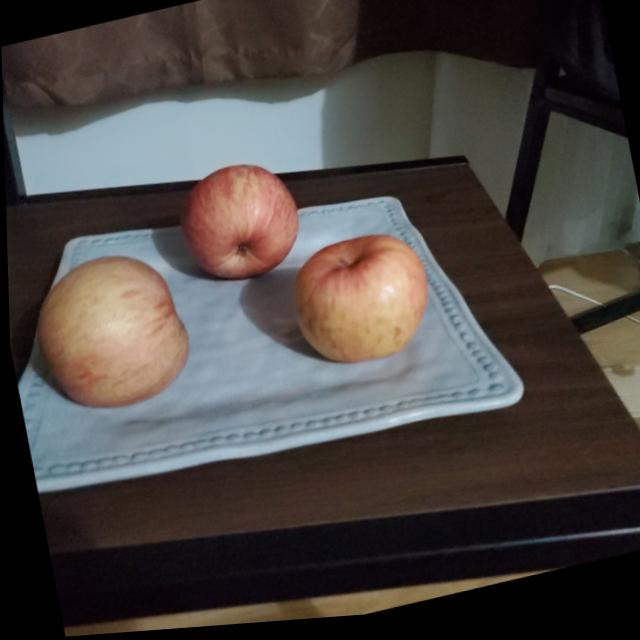apple: (23, 243, 197, 423), (284, 231, 438, 376), (172, 155, 309, 296)
